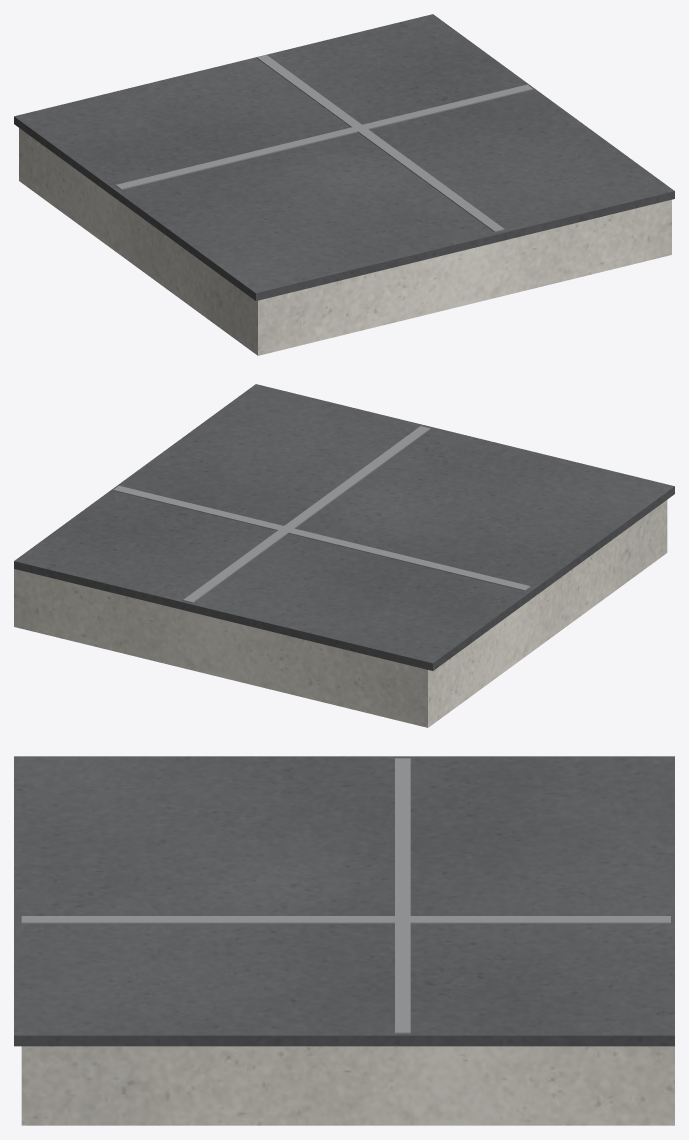
File: floor_membrane_r_e0110.glb
The picture shows the model from 3 angles, top to bottom: view 1: azimuth 30°, elevation 25°; view 2: azimuth 150°, elevation 25°; view 3: azimuth 270°, elevation 25°; orthographic projection. The views are drawn at different scales.
Visible parts, largest first — view 1: floor_membrane_r_e0110_membrane, floor_membrane_r_e0110_plaster, floor_membrane_r_e0110_seam; view 2: floor_membrane_r_e0110_membrane, floor_membrane_r_e0110_plaster, floor_membrane_r_e0110_seam; view 3: floor_membrane_r_e0110_membrane, floor_membrane_r_e0110_plaster, floor_membrane_r_e0110_seam.
Part boxes in pixels (x1=…): floor_membrane_r_e0110_membrane: x1=14, y1=14, x2=674, y2=300; floor_membrane_r_e0110_plaster: x1=19, y1=128, x2=671, y2=355; floor_membrane_r_e0110_seam: x1=115, y1=55, x2=532, y2=232; floor_membrane_r_e0110_membrane: x1=14, y1=384, x2=674, y2=670; floor_membrane_r_e0110_plaster: x1=14, y1=500, x2=667, y2=727; floor_membrane_r_e0110_seam: x1=113, y1=426, x2=530, y2=603; floor_membrane_r_e0110_membrane: x1=14, y1=756, x2=674, y2=1046; floor_membrane_r_e0110_plaster: x1=21, y1=1046, x2=674, y2=1125; floor_membrane_r_e0110_seam: x1=21, y1=758, x2=670, y2=1033.
Size of the model in its own units: 1.7 by 0.259 by 1.7.
Materials: 3 (2 with a texture image).
